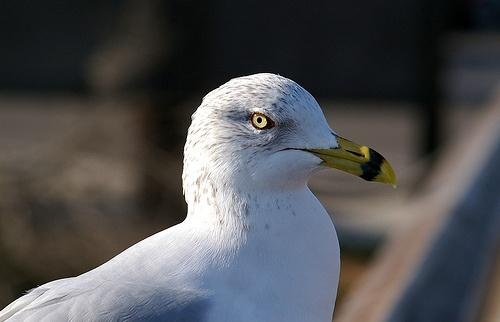bird: (1, 72, 399, 322)
